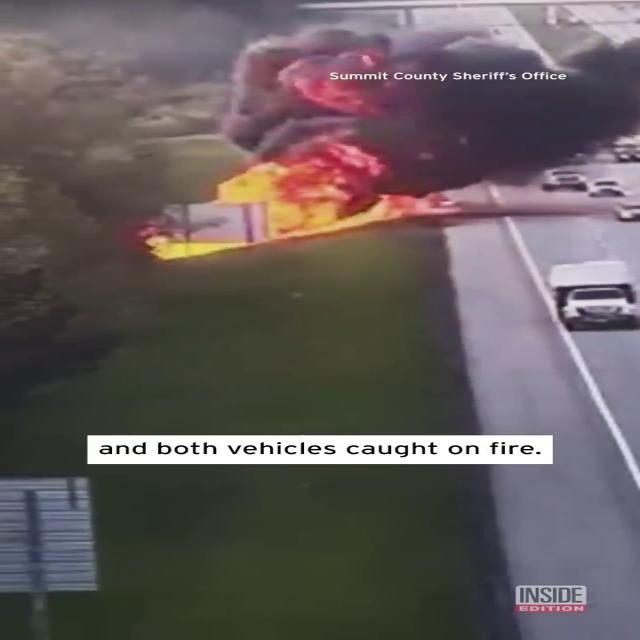Fire: (141, 166, 367, 259)
Smoke: (218, 0, 640, 184)
